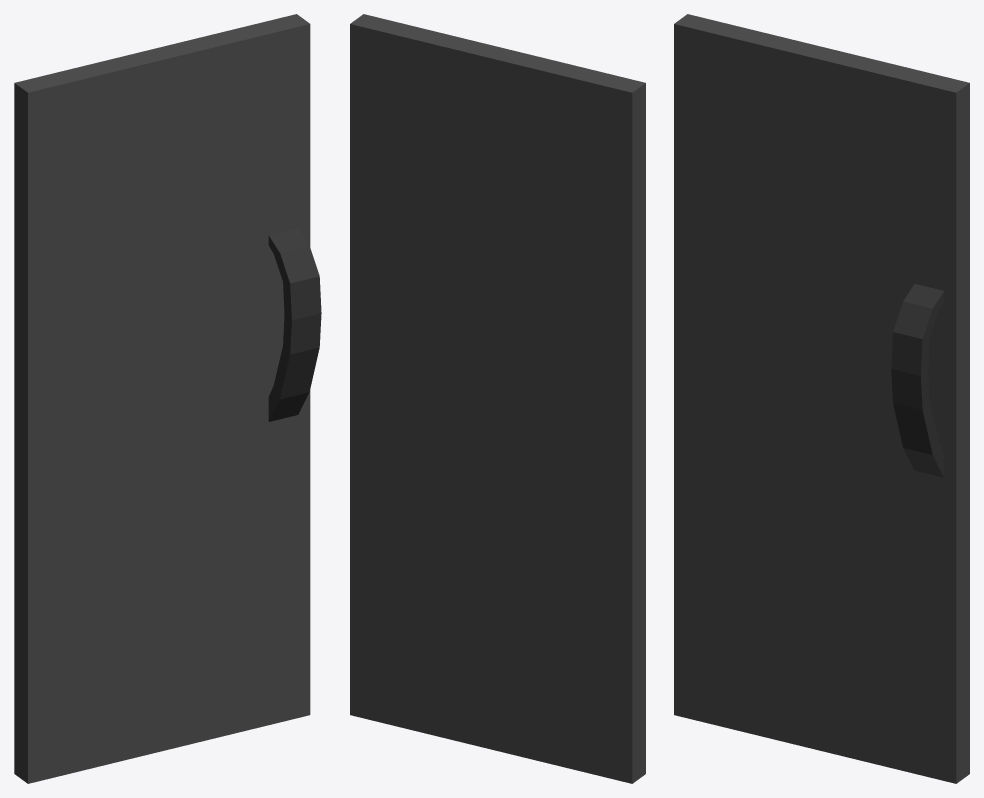
The model's file is shelf_door_6.glb.
3 views of the same model, side by side, from view 1: azimuth 30°, elevation 25°; view 2: azimuth 150°, elevation 25°; view 3: azimuth 330°, elevation 25° (orthographic).
Visible parts, largest first — view 1: Expositor Glass Door 3; view 2: Expositor Glass Door 3; view 3: Expositor Glass Door 3.
Part boxes in pixels (<box>): Expositor Glass Door 3: <box>14,14,321,783</box>; Expositor Glass Door 3: <box>350,14,645,783</box>; Expositor Glass Door 3: <box>674,14,969,783</box>.
Size of the model in its own units: 0.3287 by 0.7689 by 0.0745.
2 materials, 1 textured.
